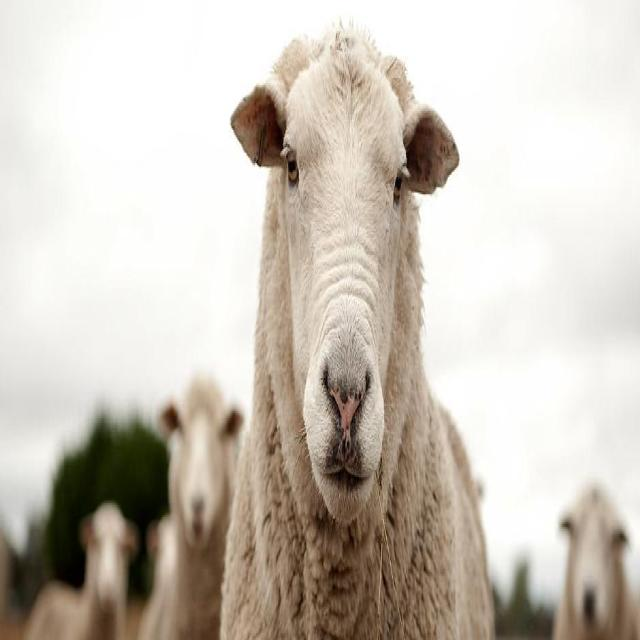Sheep: (221, 24, 498, 638)
